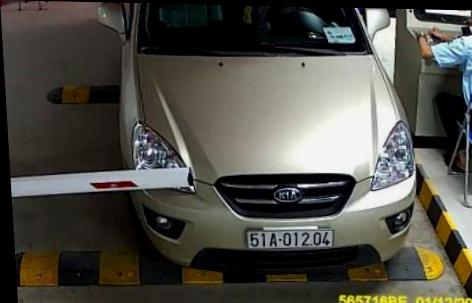License_Plate: (247, 223, 334, 259)
